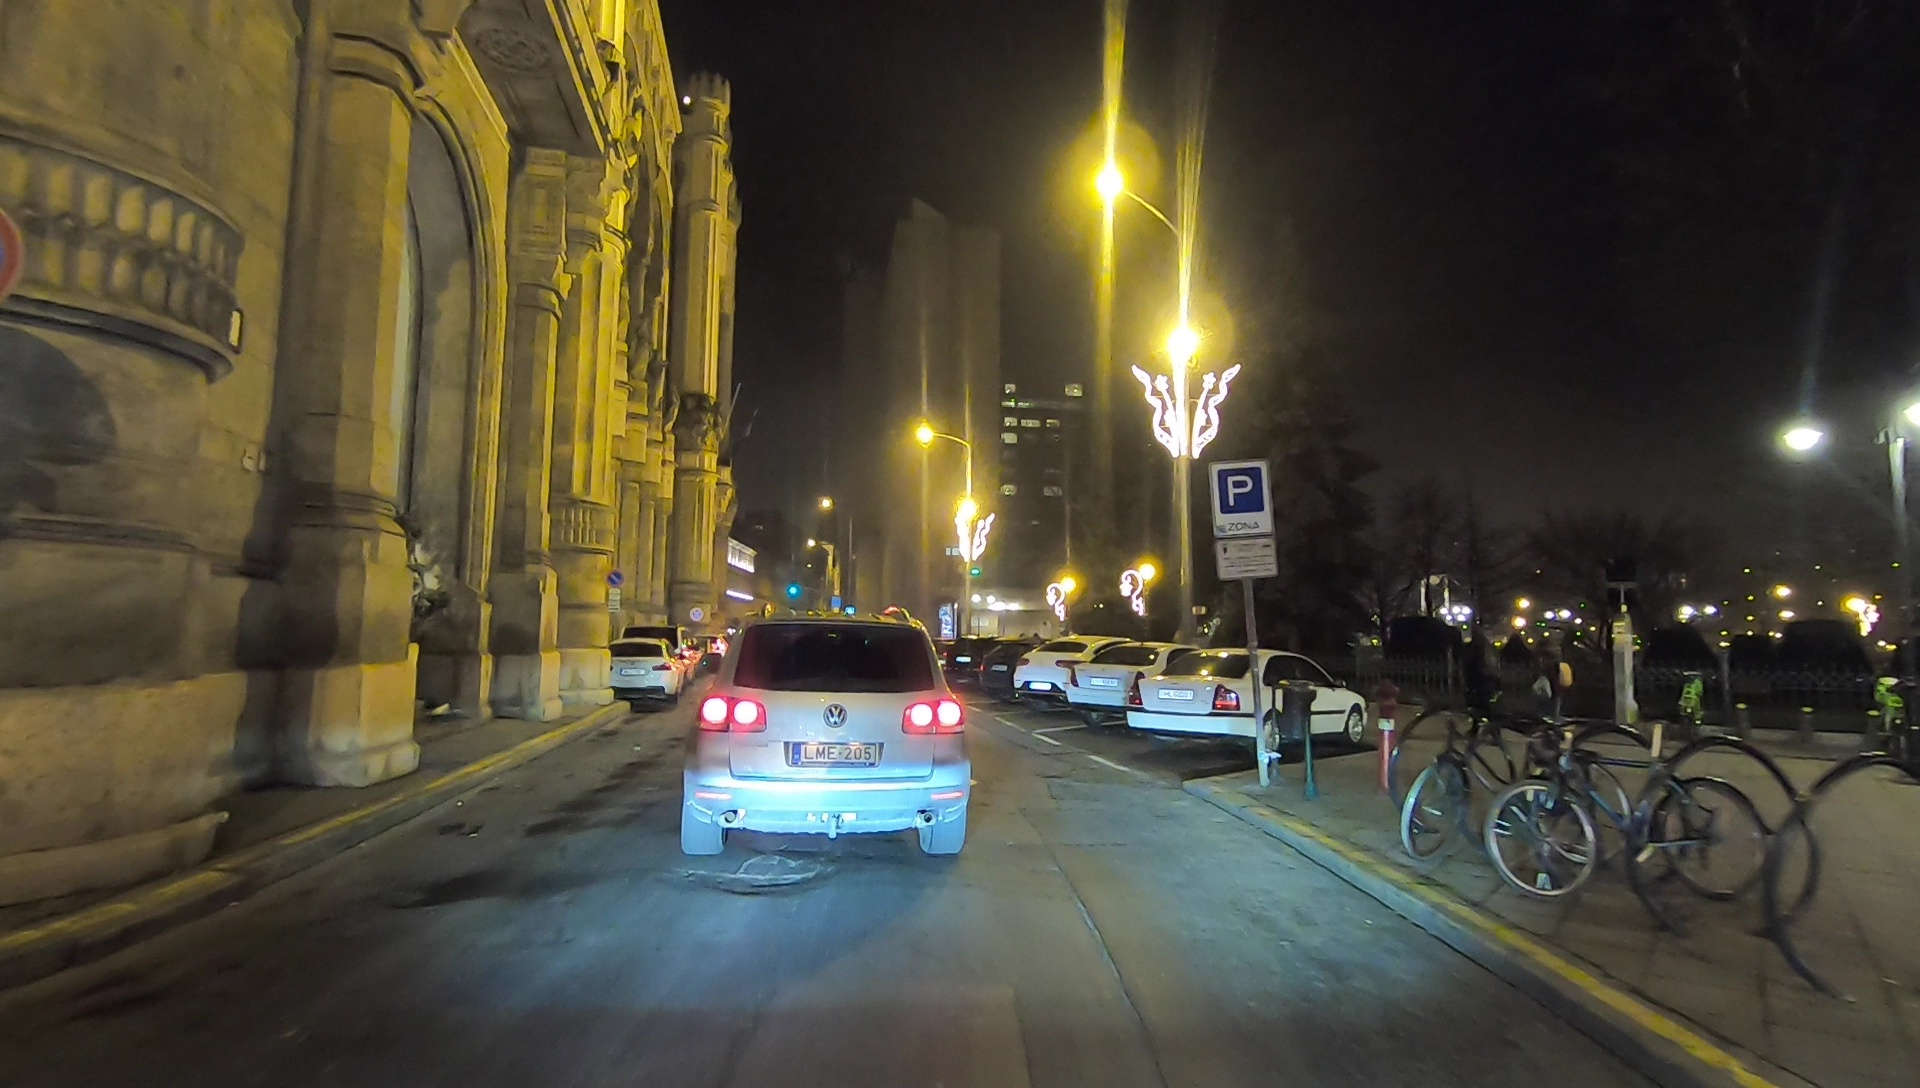person: (1460, 626, 1505, 750), (1532, 639, 1570, 744)
